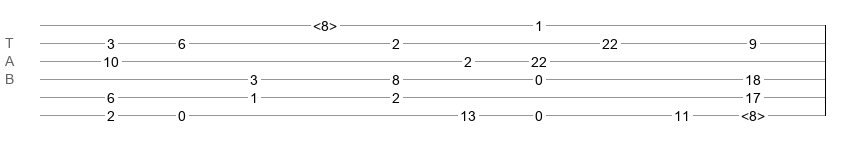0: (178, 108, 186, 118), (535, 108, 543, 118), (535, 72, 543, 82)
1: (250, 90, 258, 100), (535, 18, 543, 28)
10: (103, 54, 119, 64)
11: (674, 108, 690, 118)
13: (460, 108, 476, 118)
17: (745, 90, 761, 100)
18: (745, 72, 761, 82)
2: (107, 108, 115, 118), (392, 90, 400, 100), (392, 36, 400, 46), (464, 54, 472, 64)
22: (531, 54, 547, 64), (602, 36, 618, 46)
3: (107, 36, 115, 46), (250, 72, 258, 82)
6: (107, 90, 115, 100), (178, 36, 186, 46)
8: (392, 72, 400, 82)
9: (749, 36, 757, 46)
harmonic: (313, 18, 337, 28), (741, 108, 765, 118)
